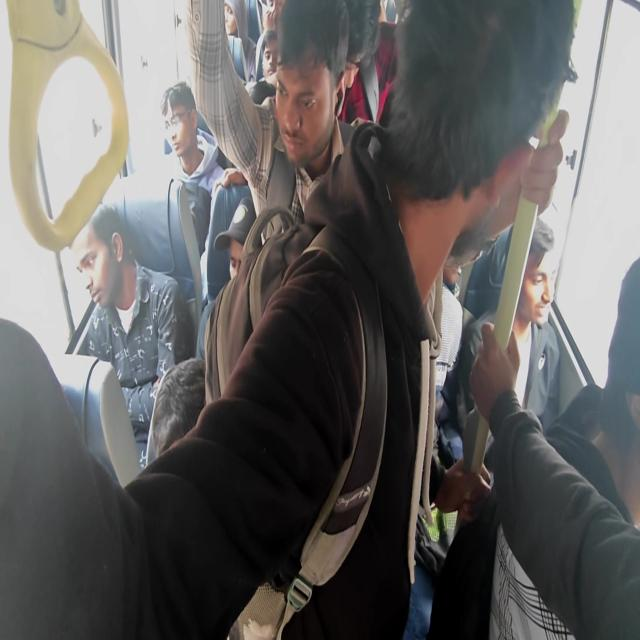person: (466, 226, 551, 325), (604, 280, 640, 508), (68, 226, 147, 322), (274, 48, 334, 165), (204, 178, 255, 310), (342, 13, 398, 102), (158, 386, 204, 476), (158, 88, 202, 165), (226, 34, 248, 84), (246, 0, 262, 45)
